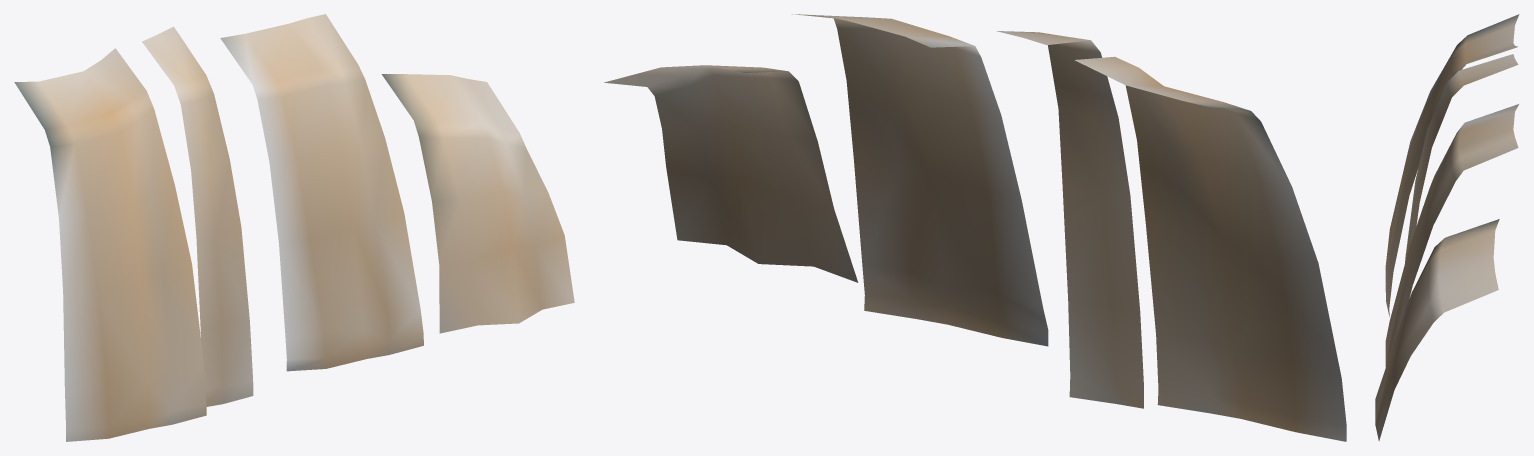
Rendered from Sand.fbx.
The picture shows the model from 3 angles, left to right: view 1: azimuth 30°, elevation 25°; view 2: azimuth 150°, elevation 25°; view 3: azimuth 270°, elevation 25°; orthographic projection. The views are drawn at different scales.
Visible parts, largest first — view 1: Sand_01; view 2: Sand_01; view 3: Sand_01.
Part boxes in pixels (<box>): Sand_01: <box>14,14,574,441</box>; Sand_01: <box>604,14,1346,441</box>; Sand_01: <box>1375,14,1519,441</box>.
Bounding box in the file's own units: 3956 × 2434 × 1169.
